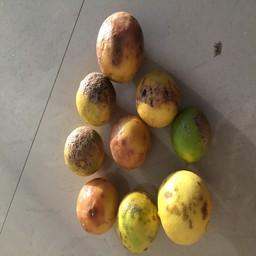Bad_lime: (158, 169, 212, 246), (96, 9, 146, 83), (171, 108, 216, 167), (117, 189, 157, 252), (135, 70, 178, 128), (108, 115, 150, 169), (77, 181, 117, 237), (66, 125, 106, 175), (77, 74, 114, 127)
